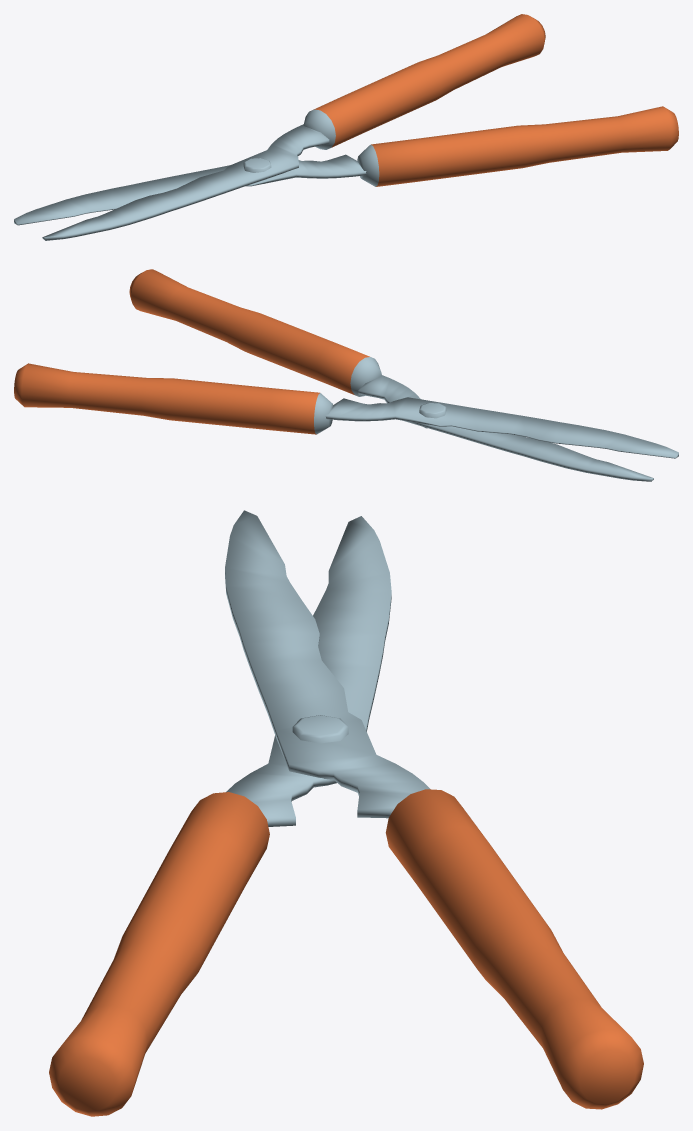
File: gardenscissor.fbx
The picture shows the model from 3 angles, top to bottom: view 1: azimuth 30°, elevation 25°; view 2: azimuth 150°, elevation 25°; view 3: azimuth 270°, elevation 25°; orthographic projection. The views are drawn at different scales.
Parts seen in each view (by area): view 1: garden_sc_L.001, garden_sc_L, Cylinder; view 2: garden_sc_L, garden_sc_L.001, Cylinder; view 3: garden_sc_L, garden_sc_L.001, Cylinder.
Part boxes in pixels (x1=…): garden_sc_L.001: x1=14, y1=106, x2=678, y2=225; garden_sc_L: x1=42, y1=14, x2=545, y2=240; Cylinder: x1=243, y1=158, x2=271, y2=183; garden_sc_L: x1=14, y1=363, x2=678, y2=458; garden_sc_L.001: x1=129, y1=269, x2=653, y2=481; Cylinder: x1=419, y1=403, x2=446, y2=428; garden_sc_L: x1=225, y1=510, x2=643, y2=1109; garden_sc_L.001: x1=49, y1=516, x2=391, y2=1116; Cylinder: x1=292, y1=715, x2=348, y2=743.
Size of the model in its own units: 348 by 22.85 by 154.
